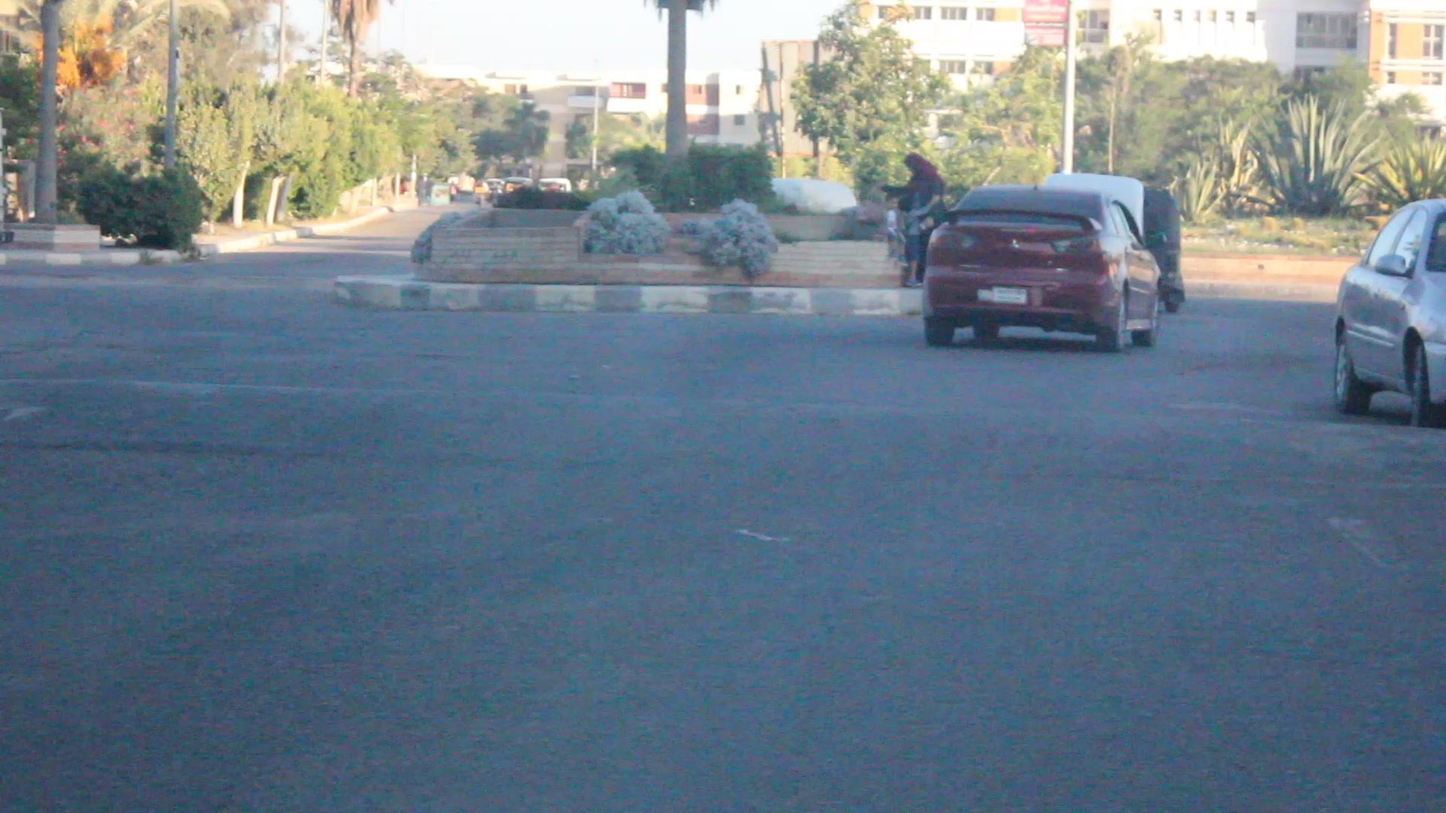Bump: (17, 378, 1446, 521)
